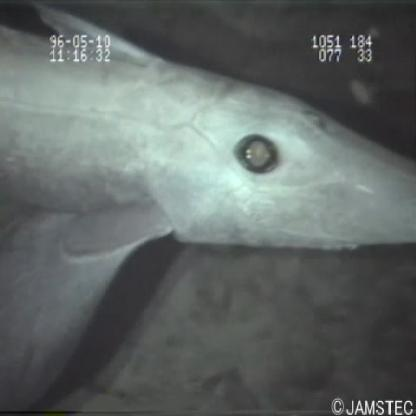Bio: (2, 4, 414, 360)
